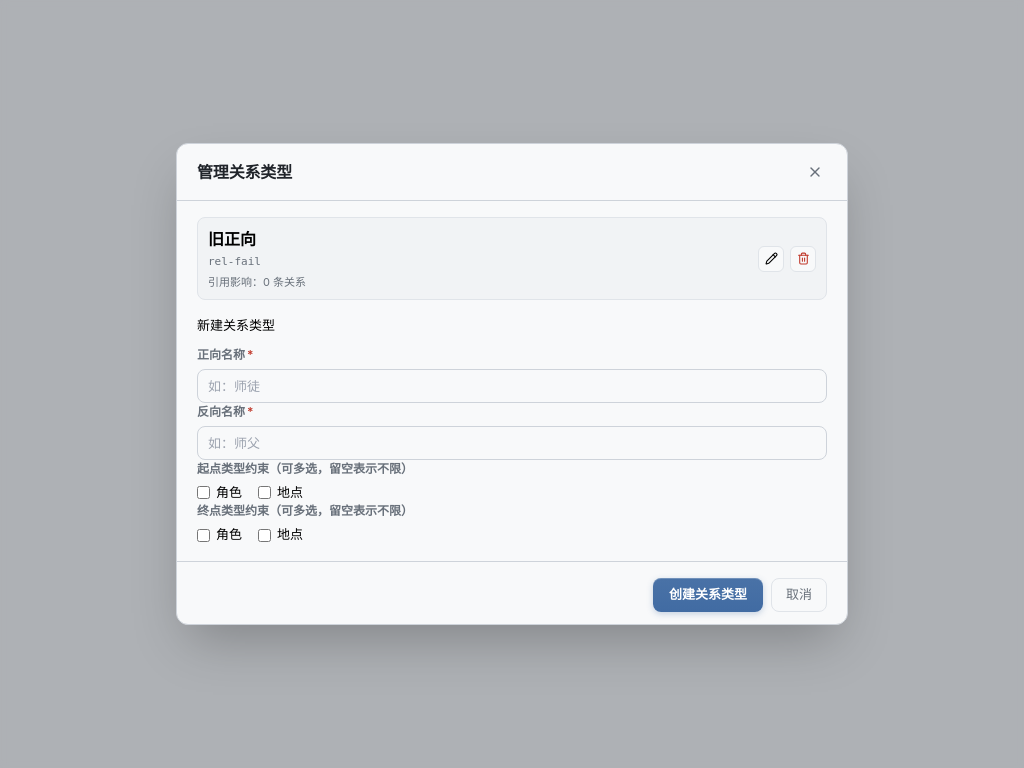
RelationTypeEditor 自定义关系类型 › 更新失败时保留编辑器内容与错误
Click the button named "编辑旧正向" at (771, 259), box [758, 246, 784, 272]
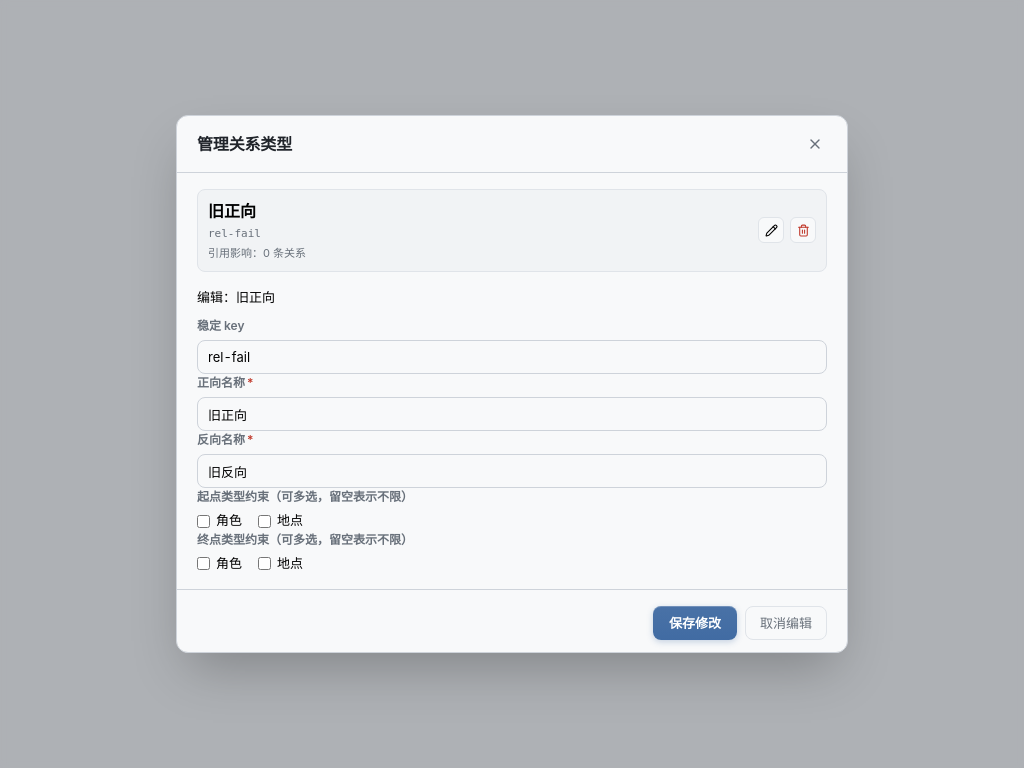
Replace the text in the field showing "旧正向" below "正向名称" with "未保存正向" at (512, 414), box [197, 397, 827, 431]
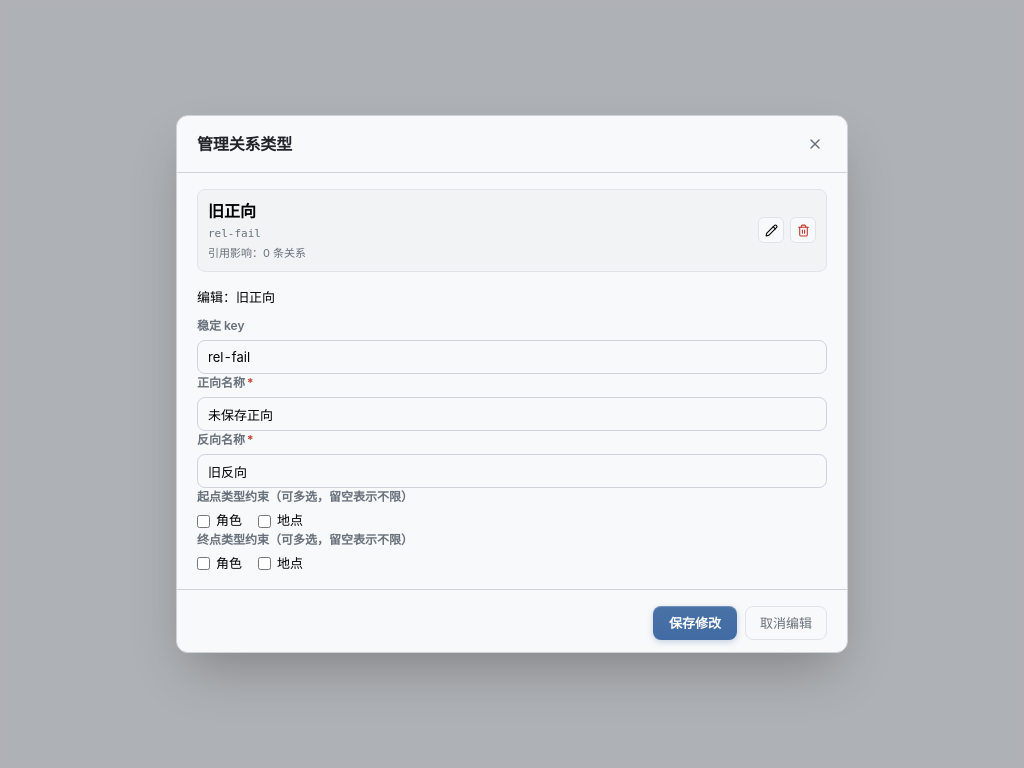
Click the button "保存修改" at (695, 623), box [653, 606, 737, 640]
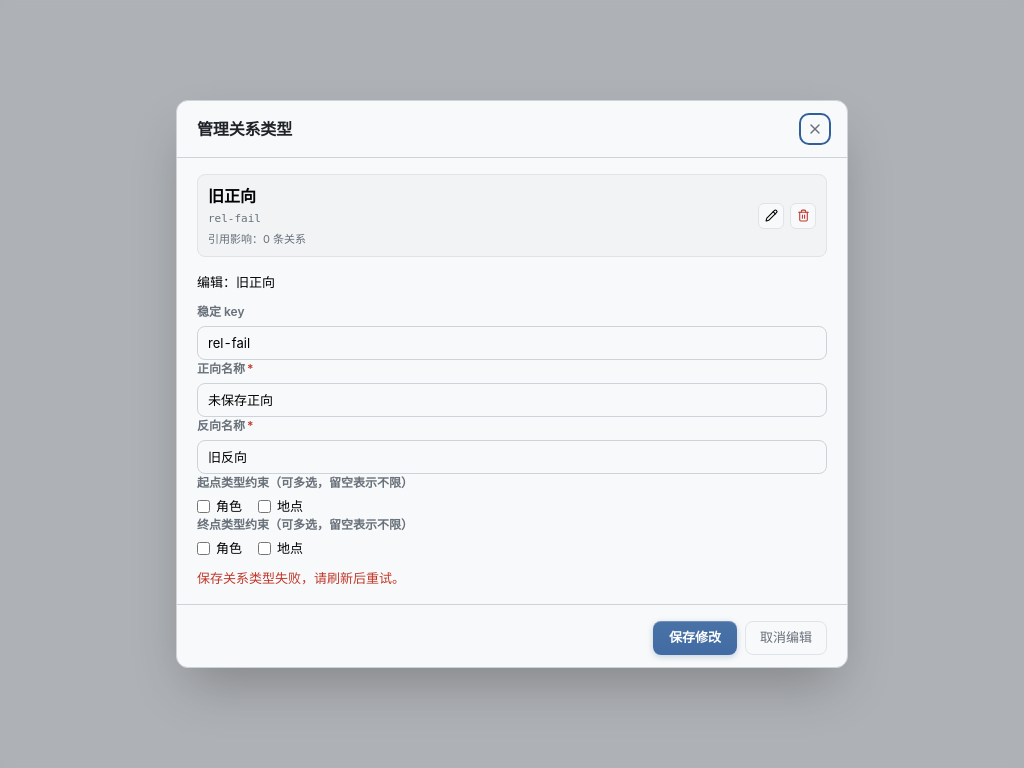
Expected: the message shows "保存关系类型失败", [197, 570, 405, 586]
